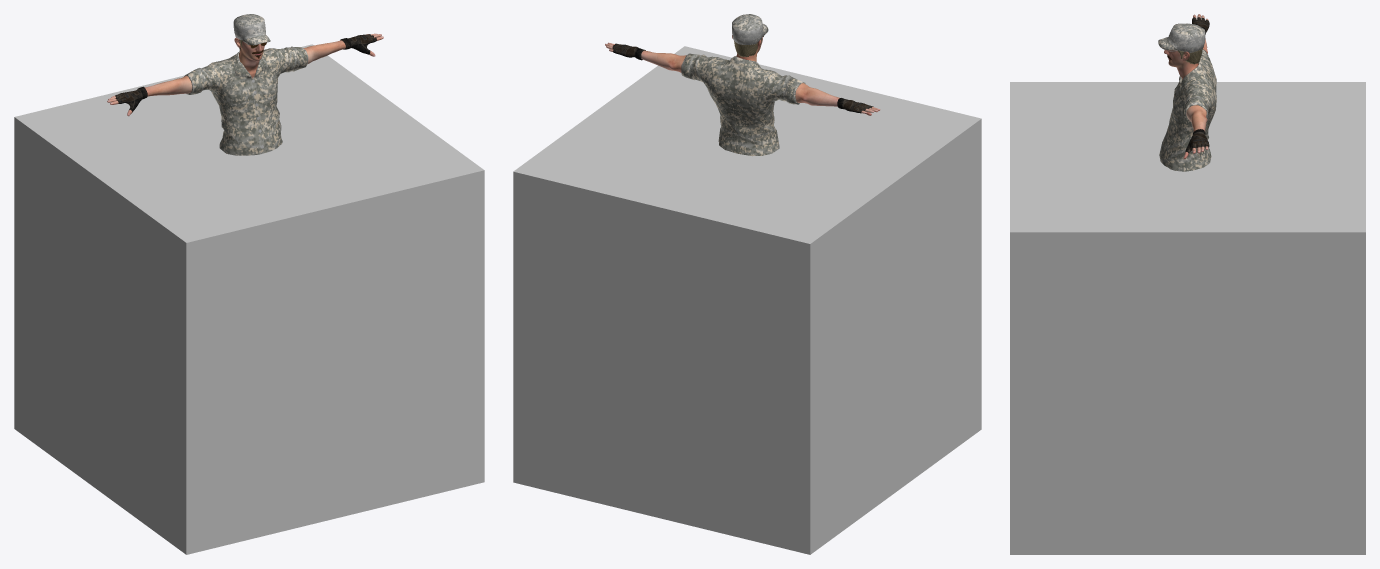
File: 未命名.obj
The picture shows the model from 3 angles, left to right: view 1: azimuth 30°, elevation 25°; view 2: azimuth 150°, elevation 25°; view 3: azimuth 270°, elevation 25°; orthographic projection. The views are drawn at different scales.
Visible parts, largest first — view 1: Cube, Tops, Body, Hats, Gloves; view 2: Cube, Tops, Body, Hats, Gloves; view 3: Cube, Tops, Body, Hats, Gloves.
Boxes of the visible parts, box(x1,y1,x2,y2) form: Cube: box(14, 44, 484, 554); Tops: box(184, 46, 308, 155); Body: box(107, 33, 383, 116); Hats: box(233, 14, 270, 45); Gloves: box(115, 34, 376, 112); Cube: box(513, 46, 981, 554); Tops: box(681, 53, 805, 156); Body: box(605, 35, 880, 115); Hats: box(732, 14, 768, 44); Gloves: box(612, 43, 873, 113); Cube: box(1010, 82, 1365, 554); Tops: box(1159, 49, 1216, 171); Body: box(1164, 14, 1208, 159); Hats: box(1158, 23, 1205, 52); Gloves: box(1185, 17, 1209, 154).
Bounding box in the file's own units: 2 × 2.81 × 2.
